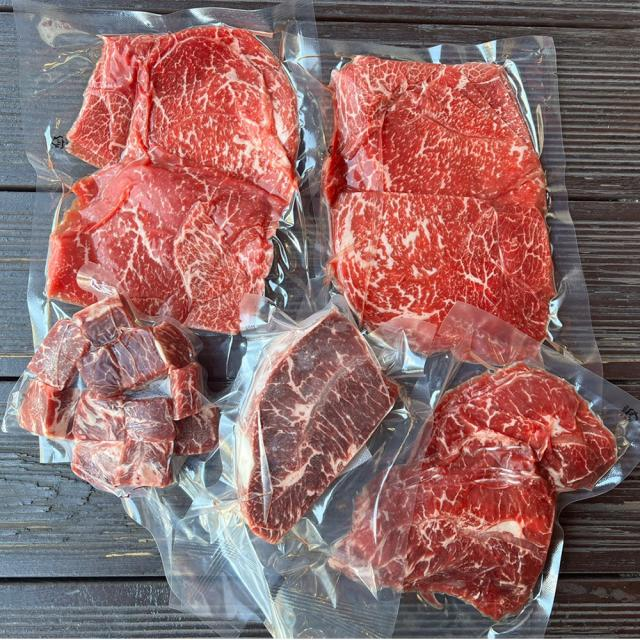beef: (88, 30, 297, 318), (354, 58, 547, 327), (57, 306, 214, 489), (435, 382, 574, 582), (209, 336, 375, 494)
